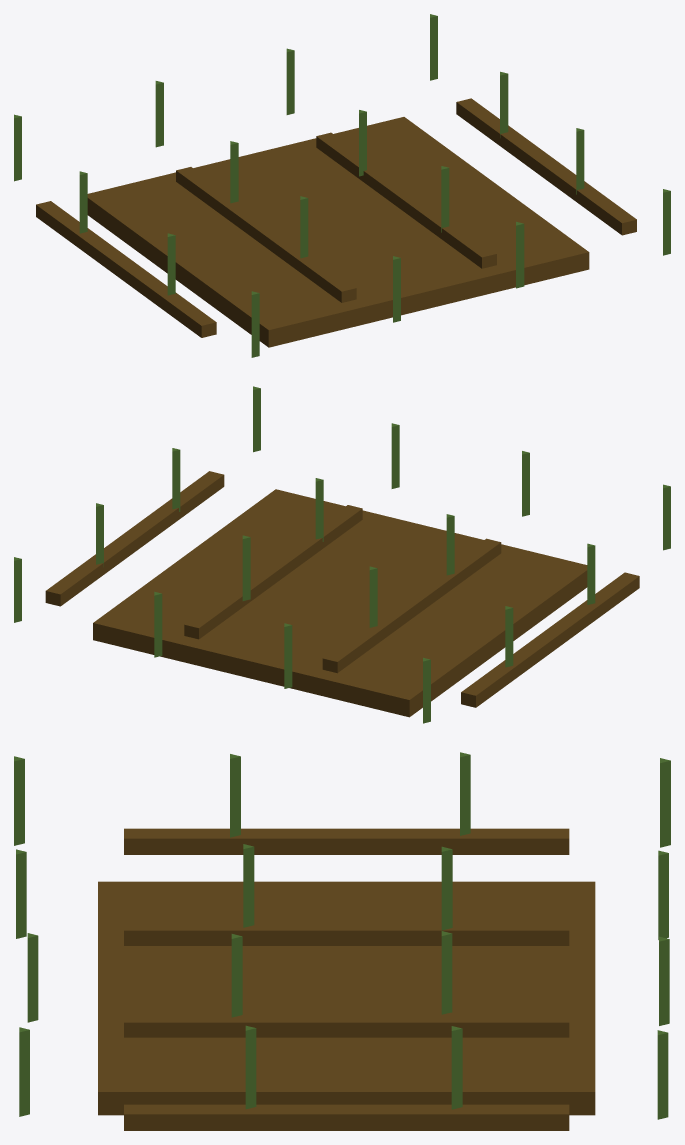
The model's file is grainfield_sprout.glb.
3 renders of one model, top to bottom at view 1: azimuth 30°, elevation 25°; view 2: azimuth 150°, elevation 25°; view 3: azimuth 270°, elevation 25°, orthographic. The views are drawn at different scales.
Visible parts, largest first — view 1: Furrow.005, Grain stalk.005; view 2: Furrow.005, Grain stalk.005; view 3: Furrow.005, Grain stalk.005.
Part boxes in pixels (x1=…): Furrow.005: x1=36, y1=98, x2=636, y2=347; Grain stalk.005: x1=14, y1=14, x2=670, y2=357; Furrow.005: x1=45, y1=471, x2=639, y2=717; Grain stalk.005: x1=14, y1=386, x2=670, y2=723; Furrow.005: x1=98, y1=828, x2=595, y2=1130; Grain stalk.005: x1=14, y1=752, x2=670, y2=1119.
Size of the model in its own units: 1.31 by 0.25 by 1.27.
